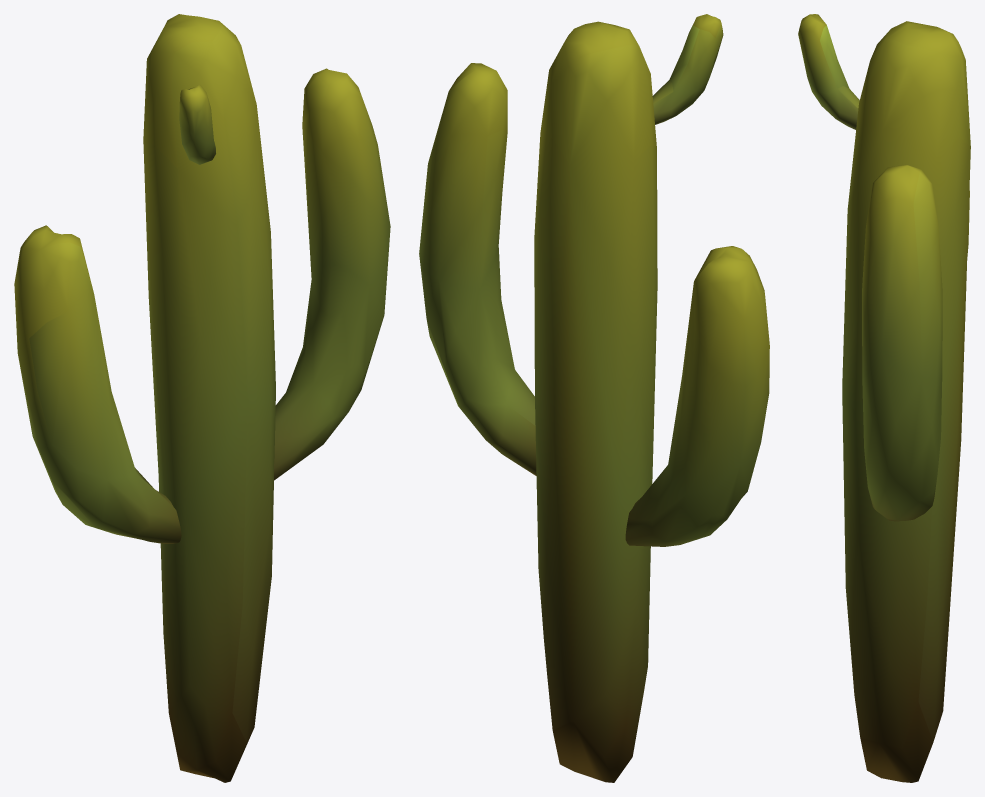
Rendered from Cactus.fbx.
3 renders of one model, left to right at view 1: azimuth 30°, elevation 25°; view 2: azimuth 150°, elevation 25°; view 3: azimuth 270°, elevation 25°, orthographic.
Parts seen in each view (by area): view 1: Cactus_02.001; view 2: Cactus_02.001; view 3: Cactus_02.001.
Part boxes in pixels (x1=…): Cactus_02.001: x1=14, y1=14, x2=390, y2=782; Cactus_02.001: x1=419, y1=14, x2=769, y2=782; Cactus_02.001: x1=798, y1=14, x2=970, y2=782.
Bounding box in the file's own units: 1.89 × 3.88 × 0.813.
